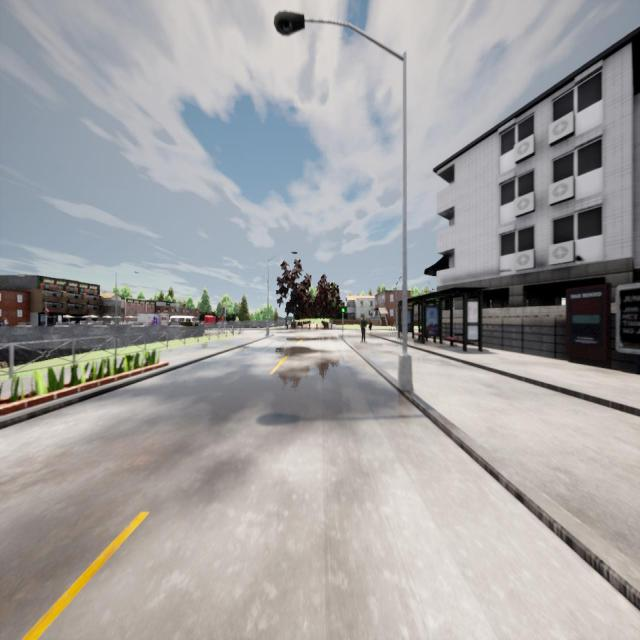Pedestrian: (359, 314, 368, 343)
Vehicle: (128, 314, 168, 326), (169, 316, 199, 326)
traffic_light: (222, 307, 225, 315), (46, 309, 49, 316), (342, 302, 344, 312)
